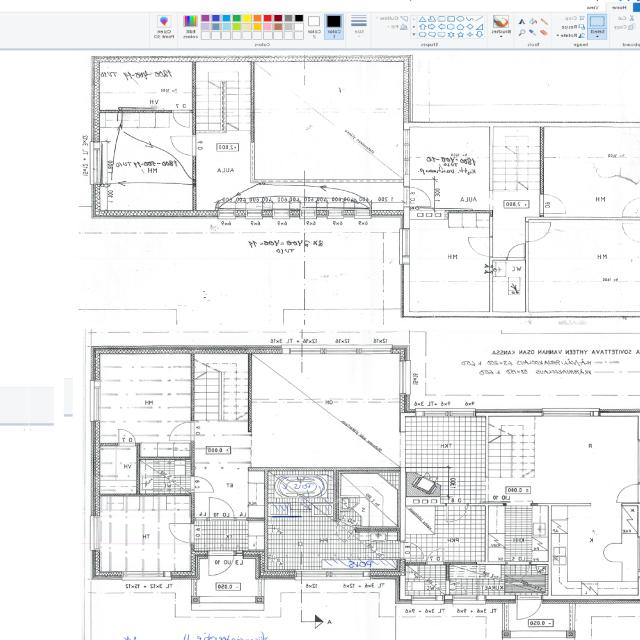door: (329, 518, 357, 544), (518, 595, 542, 623), (210, 551, 233, 579), (210, 497, 234, 520), (403, 188, 433, 206), (170, 136, 197, 155), (526, 222, 551, 242), (168, 524, 195, 542), (169, 422, 195, 440), (540, 195, 566, 213), (508, 561, 530, 582), (616, 483, 640, 502), (468, 238, 493, 256), (397, 542, 424, 558), (621, 223, 640, 243), (622, 197, 640, 216), (191, 477, 213, 492), (508, 243, 525, 260), (119, 430, 135, 446), (428, 547, 443, 564), (446, 581, 465, 594), (174, 110, 189, 126)
